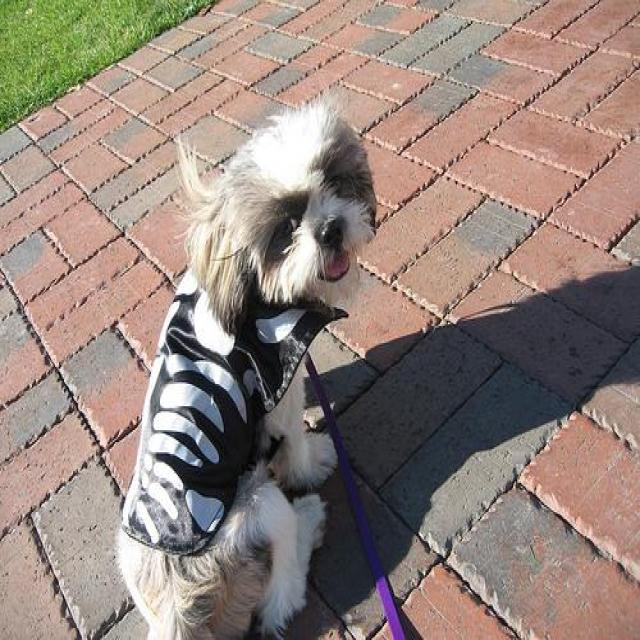sitting: (112, 97, 388, 640)
